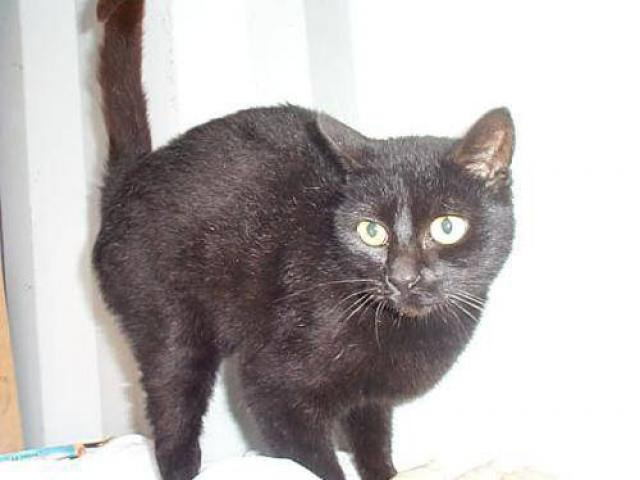cat: (90, 101, 523, 479)
